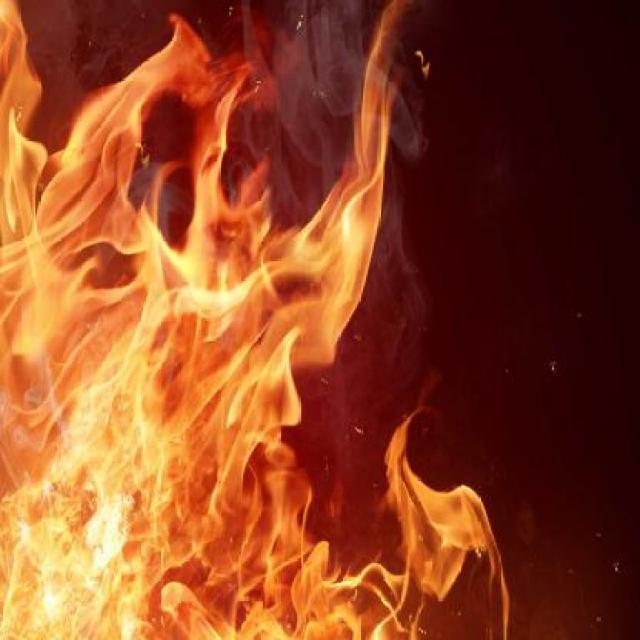Fire: (0, 5, 535, 638)
Smoke: (0, 0, 475, 623)
